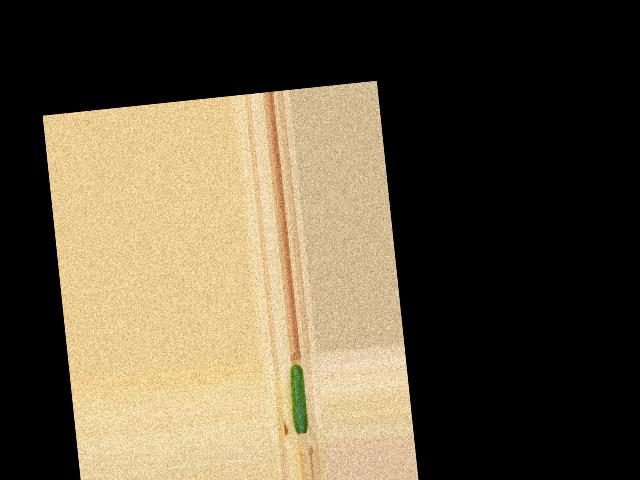cucumber: (288, 363, 309, 433)
